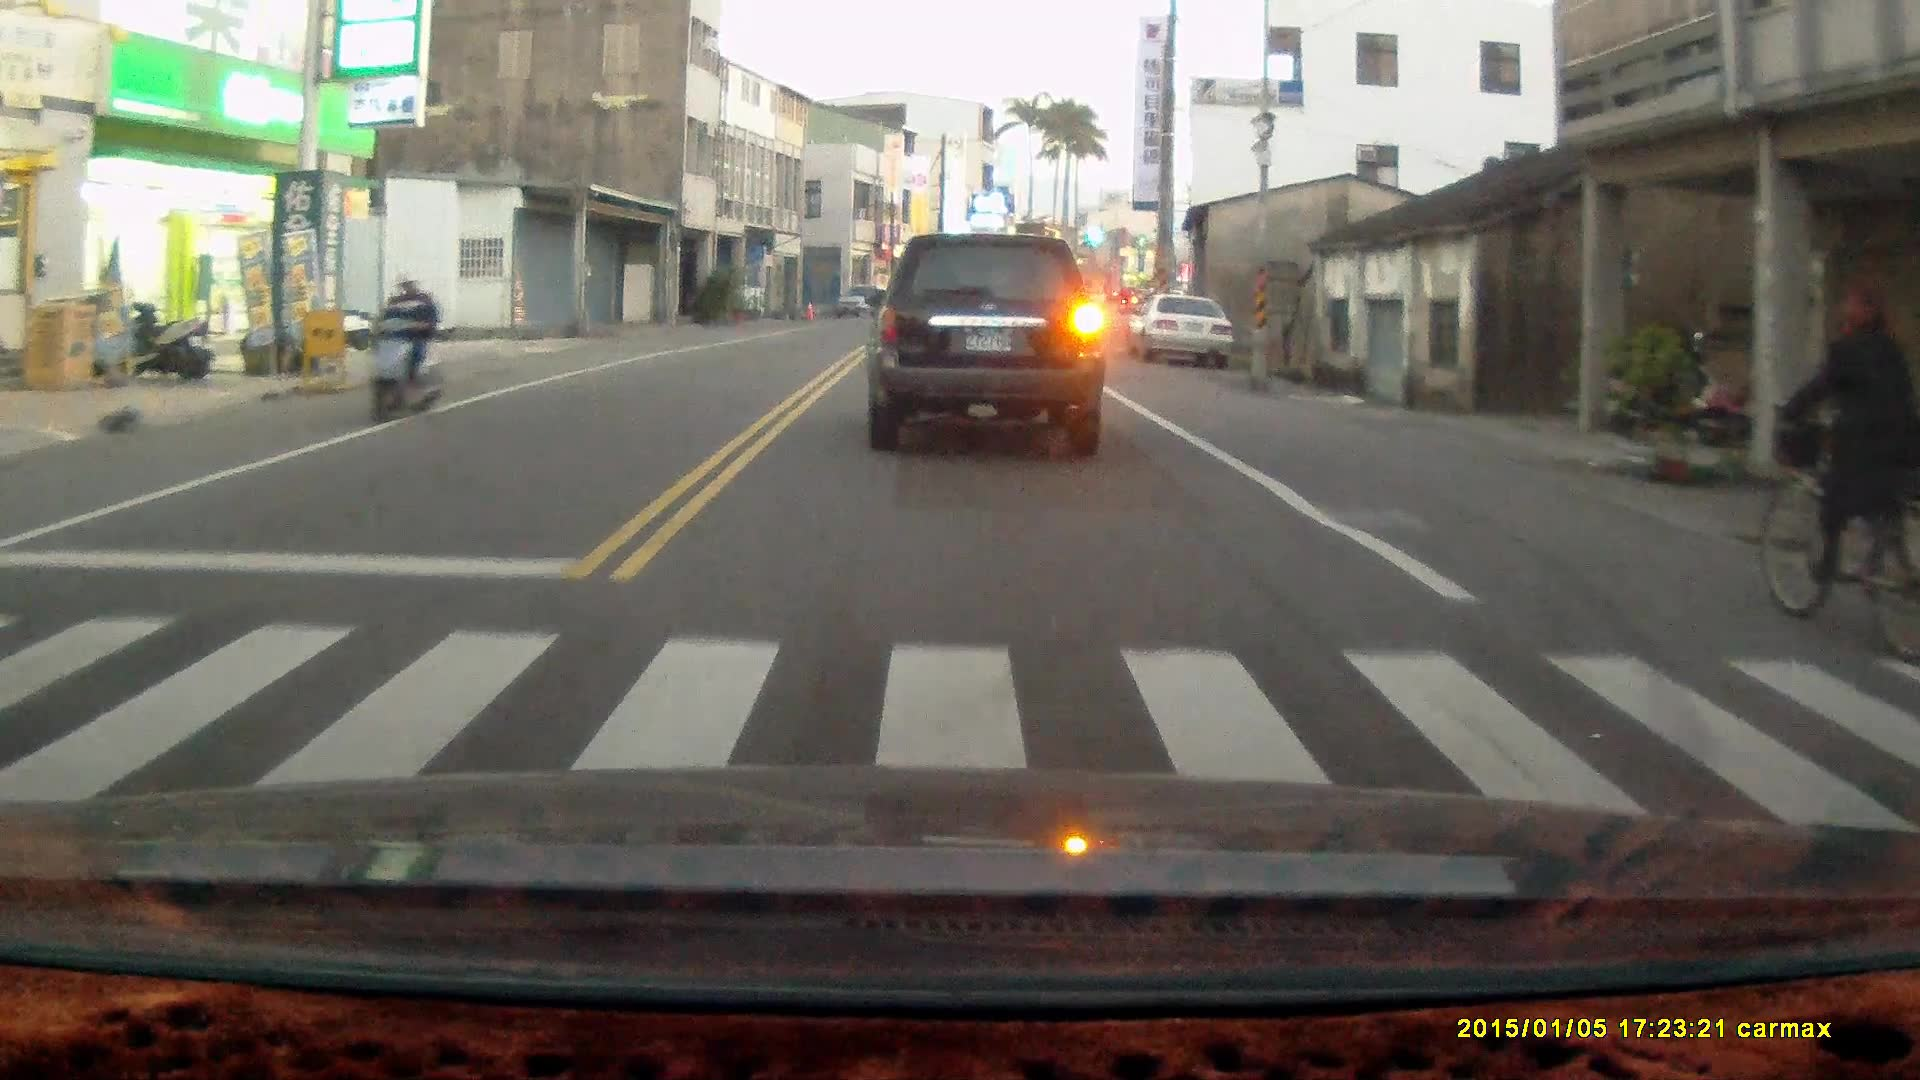rider: (1755, 280, 1920, 641), (356, 267, 444, 424)
vehicle: (865, 232, 1108, 457), (1129, 295, 1238, 366)
